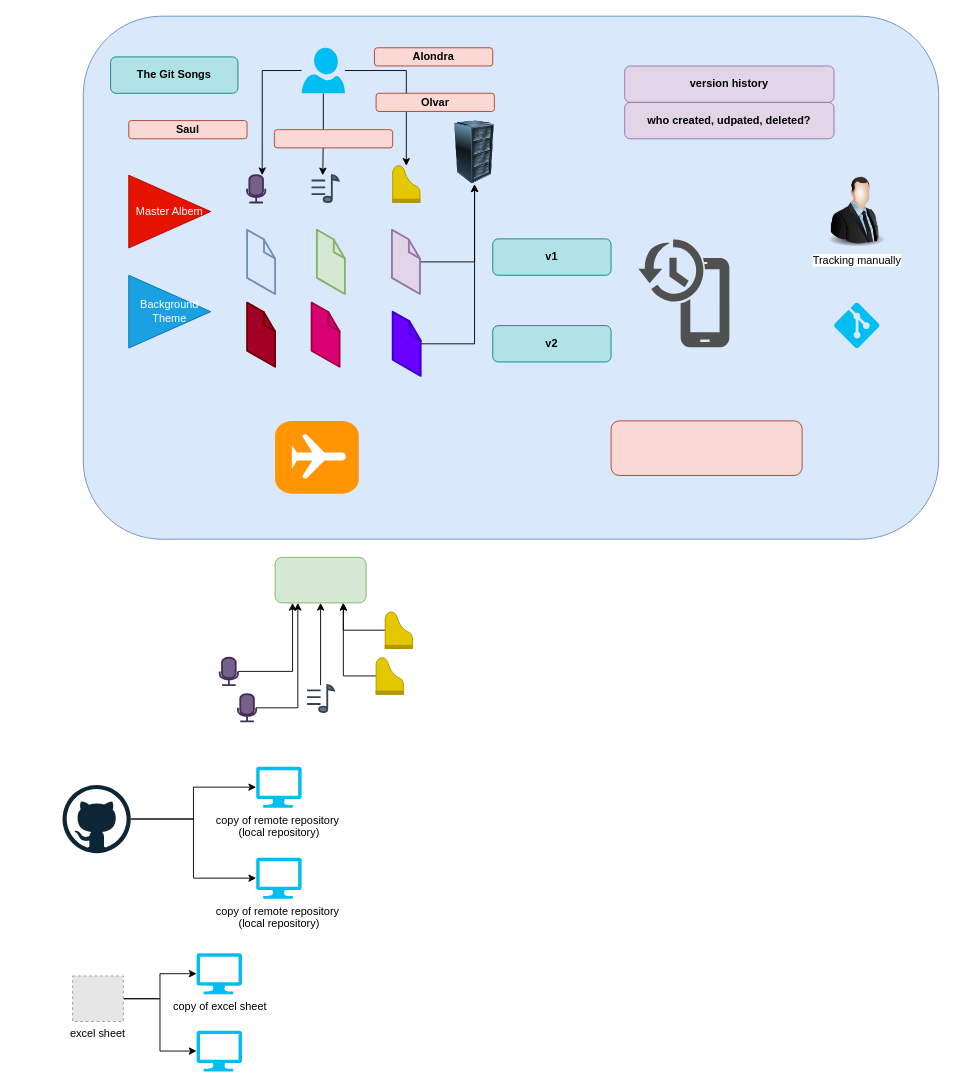
This 955x1087 diagram has some shape labels left out. Grey dashed boxes stand in for pictures. The shapes that lost their labels are listed below. From the top down, each one's box as (x1, y1, x2, y2) in pixels, then its label:
(301, 47, 344, 93): Music Director
(273, 129, 393, 148): Luis
(834, 302, 879, 348): TimeTracker
(275, 420, 358, 493): Time Travel
(610, 420, 802, 475): DISTRIBUTED VERSION CONTROL SYSTEM
(274, 556, 366, 603): MUSIC ALBUM
(62, 784, 131, 853): github accout / remote repository
